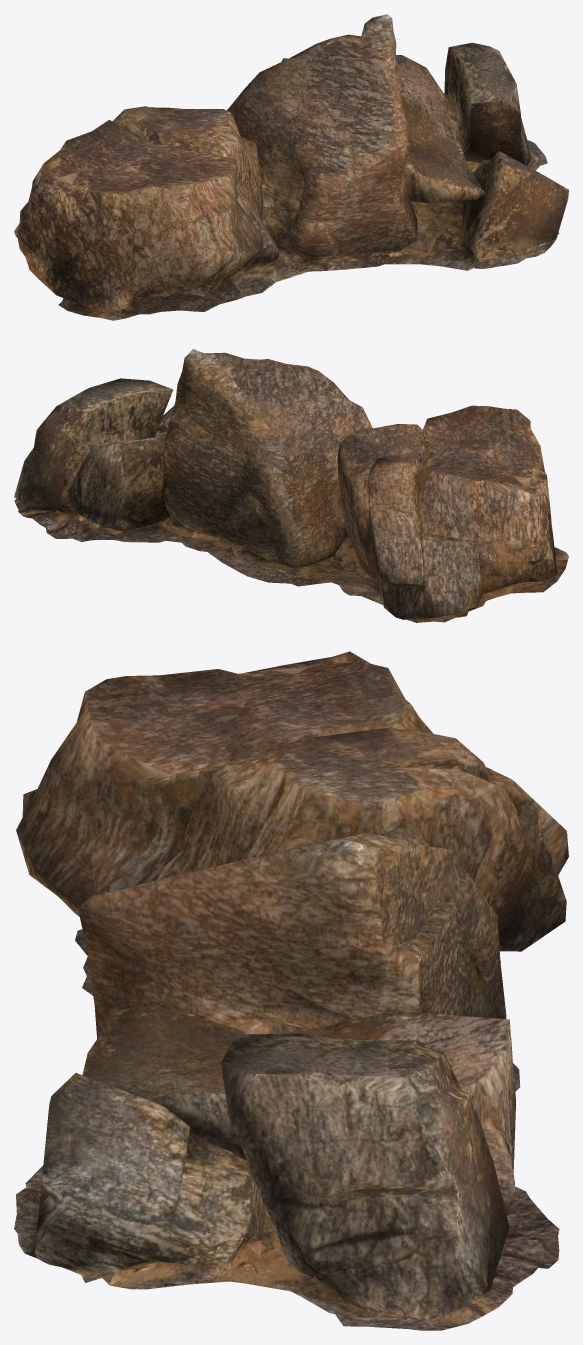
The model's file is boulder.glb.
The picture shows the model from 3 angles, top to bottom: view 1: azimuth 30°, elevation 25°; view 2: azimuth 150°, elevation 25°; view 3: azimuth 270°, elevation 25°; orthographic projection. The views are drawn at different scales.
Visible parts, largest first — view 1: namaqualand_boulder_02_LOD3; view 2: namaqualand_boulder_02_LOD3; view 3: namaqualand_boulder_02_LOD3.
Boxes of the visible parts, x1,y1,x2,y2 form: namaqualand_boulder_02_LOD3: (14,14,568,320); namaqualand_boulder_02_LOD3: (14,349,568,622); namaqualand_boulder_02_LOD3: (14,651,568,1330).
Bounding box in the file's own units: 2.52 × 0.8793 × 1.23.
1 material, 1 textured.
